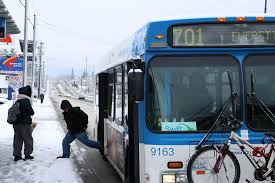bus: (91, 14, 275, 183)
